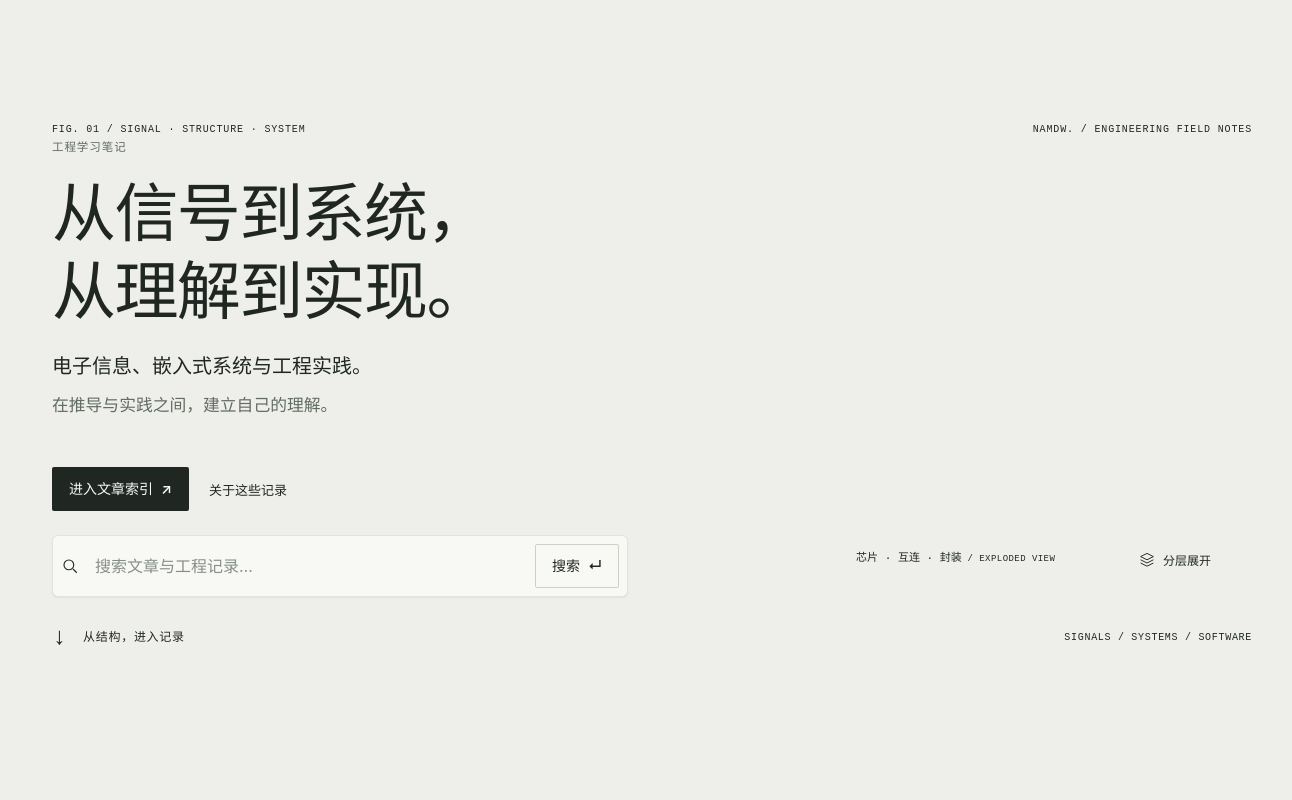
Test: home article search › submits a trimmed Chinese query to the article results route
The width and height of the screenshot is (1292, 800).
Type "  矩阵  " into the search field labelled "搜索文章".
click(307, 566); type("  矩阵  ")  # box [87,546,527,586]
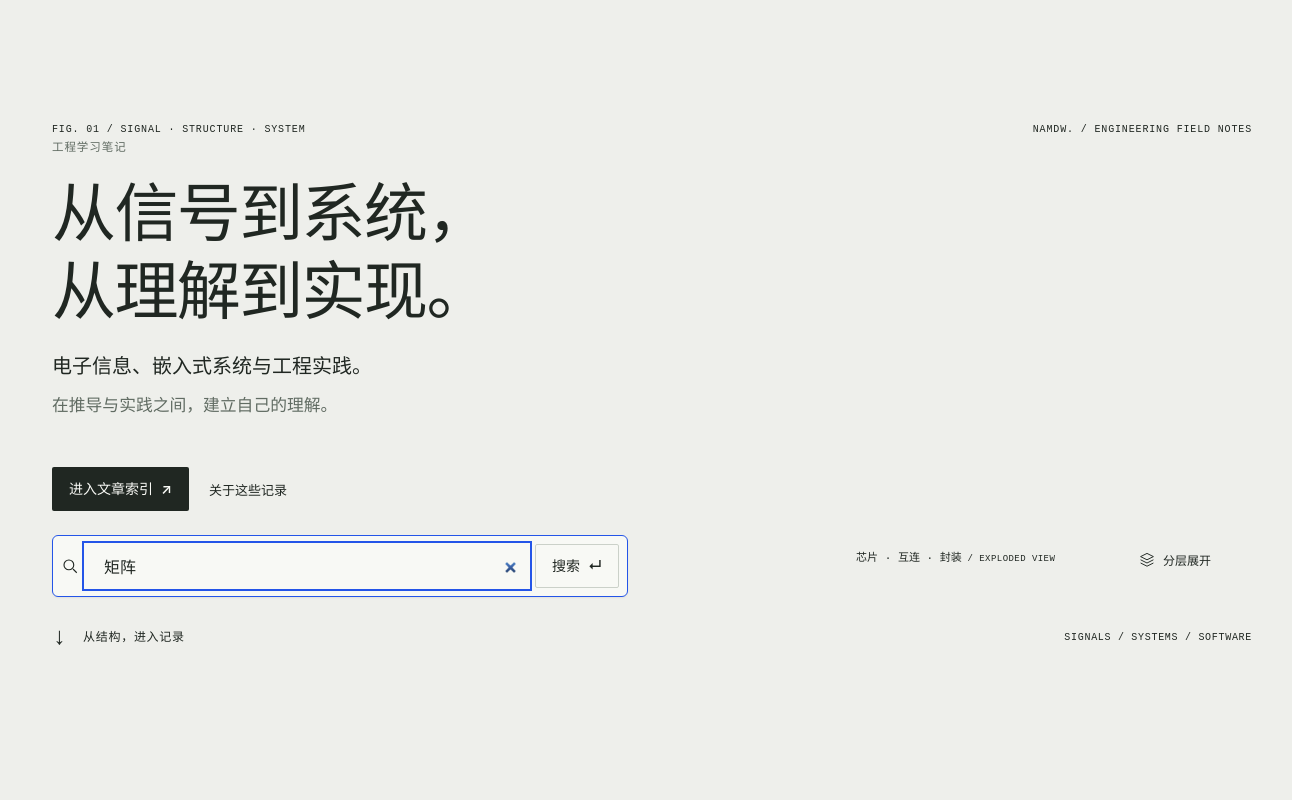
Click the button with aria-label "搜索文章".
click(577, 566)  # box [535,544,619,588]
(page scrolled)
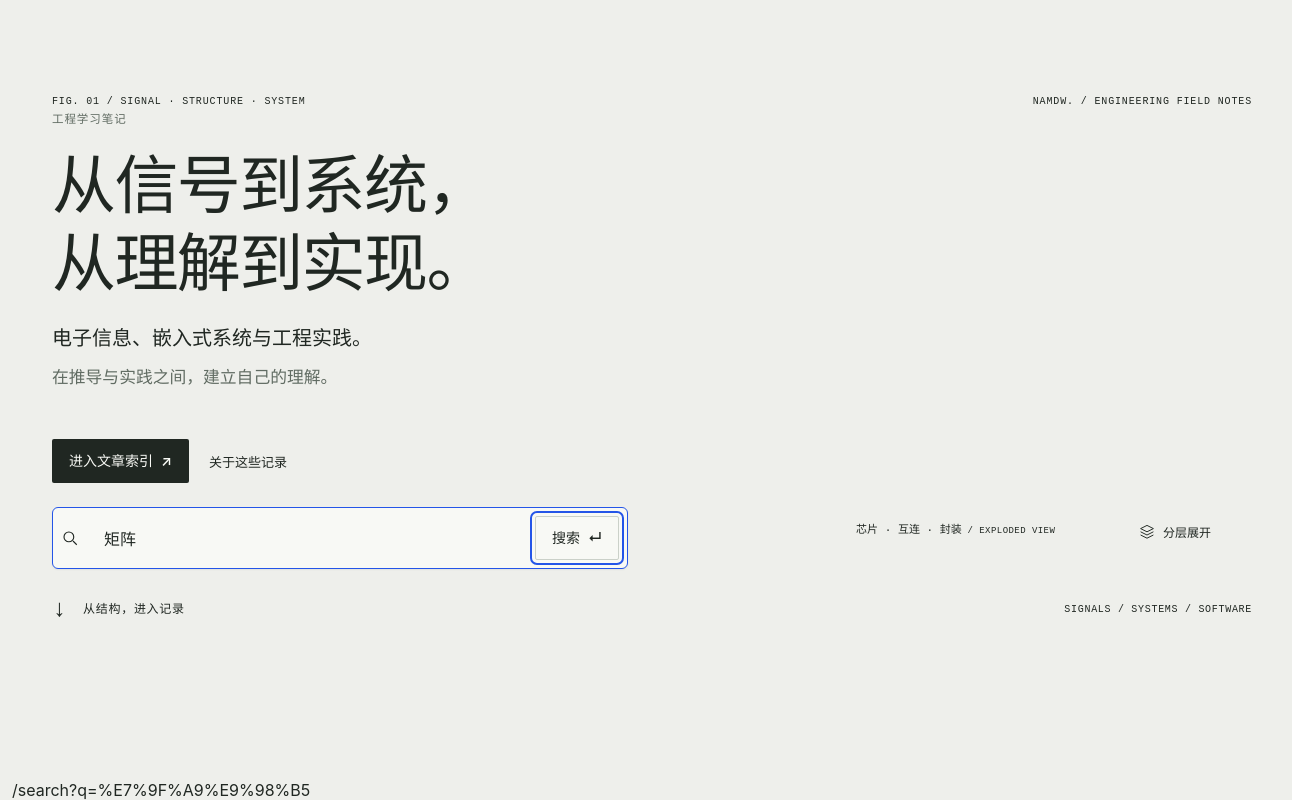
expect the text with test id "location" reads "/search?q=%E7%9F%A9%E9%98%B5": met, box [12,780,310,799]
